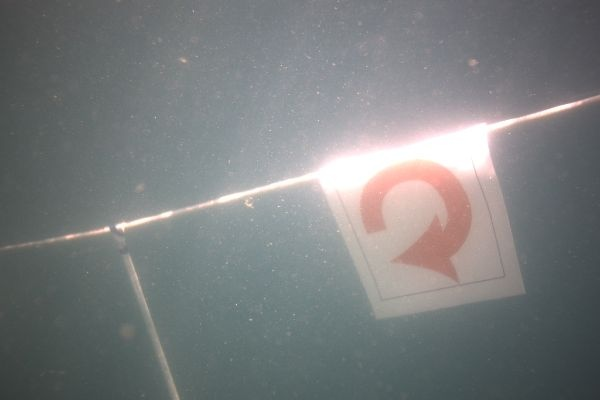gate: (1, 94, 600, 400)
gate_rouge: (314, 123, 526, 321)
